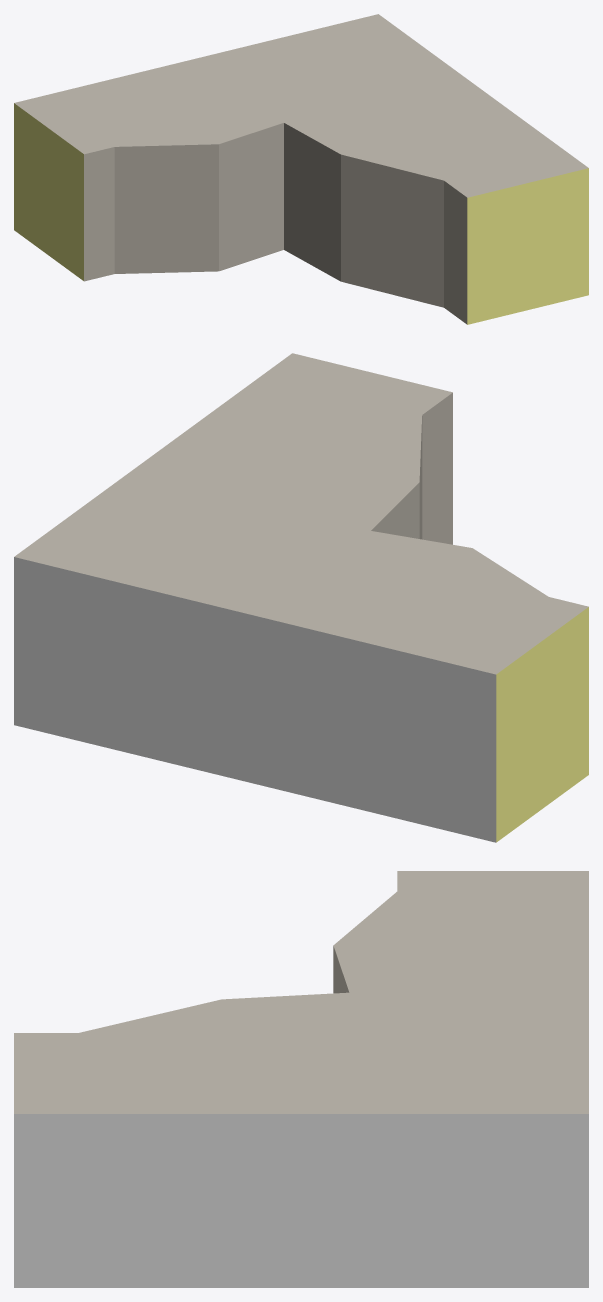
Rendered from Cracked_Curve_Inner_3x3_1_Mid.glb.
3 views of the same model, one above another, from view 1: azimuth 30°, elevation 25°; view 2: azimuth 150°, elevation 25°; view 3: azimuth 270°, elevation 25° (orthographic). The views are drawn at different scales.
Parts seen in each view (by area): view 1: Cracked_Curve_Inner_3x3_1_Mid; view 2: Cracked_Curve_Inner_3x3_1_Mid; view 3: Cracked_Curve_Inner_3x3_1_Mid.
Part boxes in pixels (box(x1,y1,x2,y2)): Cracked_Curve_Inner_3x3_1_Mid: box(14, 14, 588, 324); Cracked_Curve_Inner_3x3_1_Mid: box(14, 353, 588, 842); Cracked_Curve_Inner_3x3_1_Mid: box(14, 871, 588, 1287).
Size of the model in its own units: 300 by 100 by 300.
